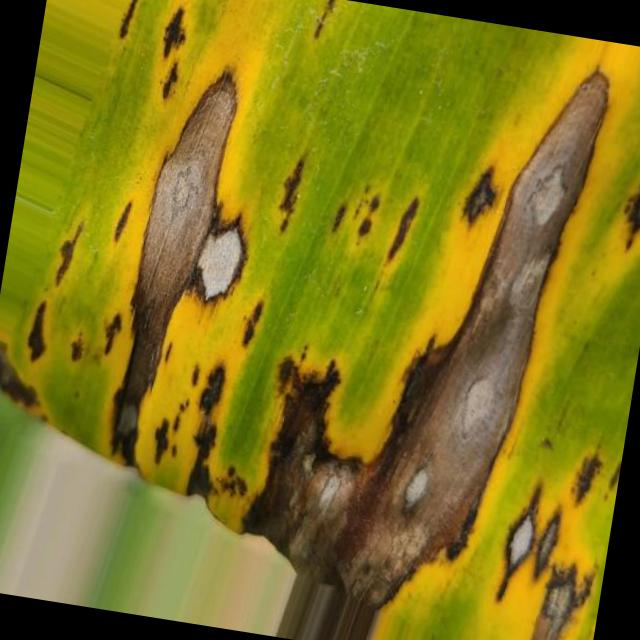Banana_Yellow_Sigatoka: (317, 26, 611, 640), (62, 44, 366, 515)
